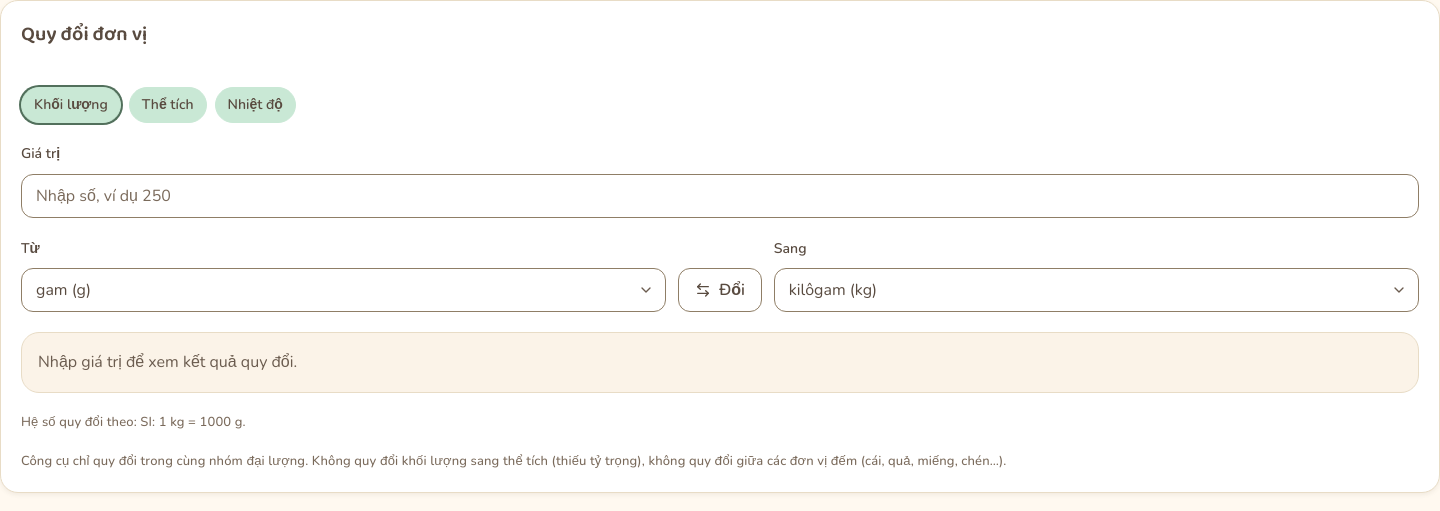
Test: P10 — UnitConverter › nhập không phải số → báo lỗi
In the field labelled "Giá trị": (720, 196) [21,174,1419,218], type "abc"
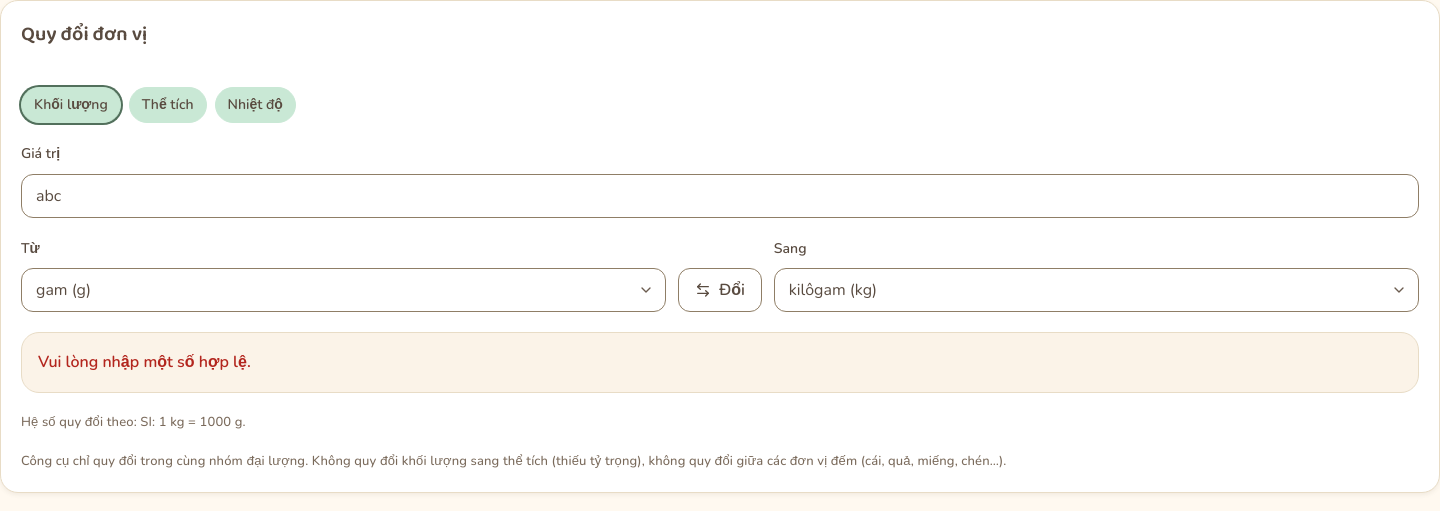
Check: the text "Vui lòng nhập một số hợp lệ." is shown, box [38,351,251,373]
